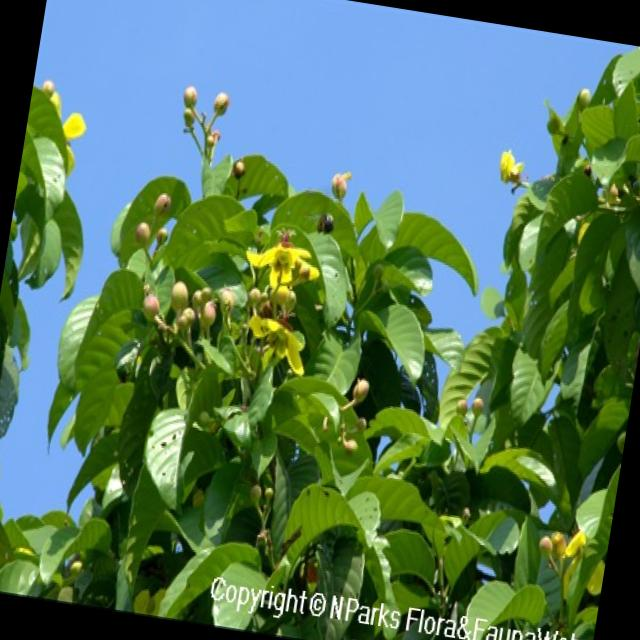Simpoh-Lak: (76, 34, 417, 484), (238, 220, 328, 294), (238, 306, 316, 381), (134, 275, 222, 341), (174, 82, 234, 158), (131, 184, 181, 256)
